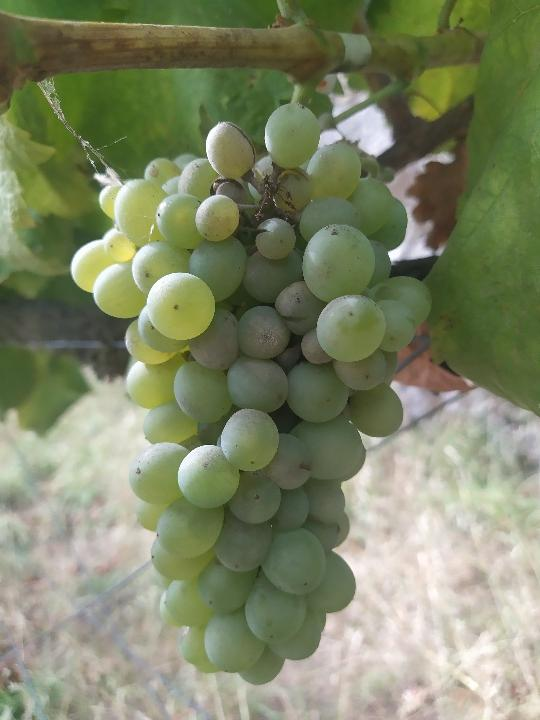grape: (63, 103, 436, 685)
